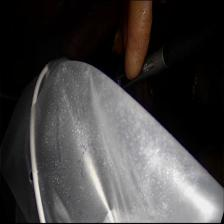Grasper: (113, 42, 164, 96)
Specimen Bag: (1, 64, 224, 224)
